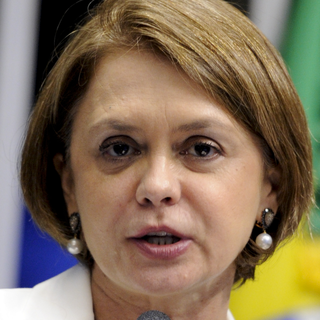eye: (169, 132, 226, 165), (92, 135, 143, 164)
